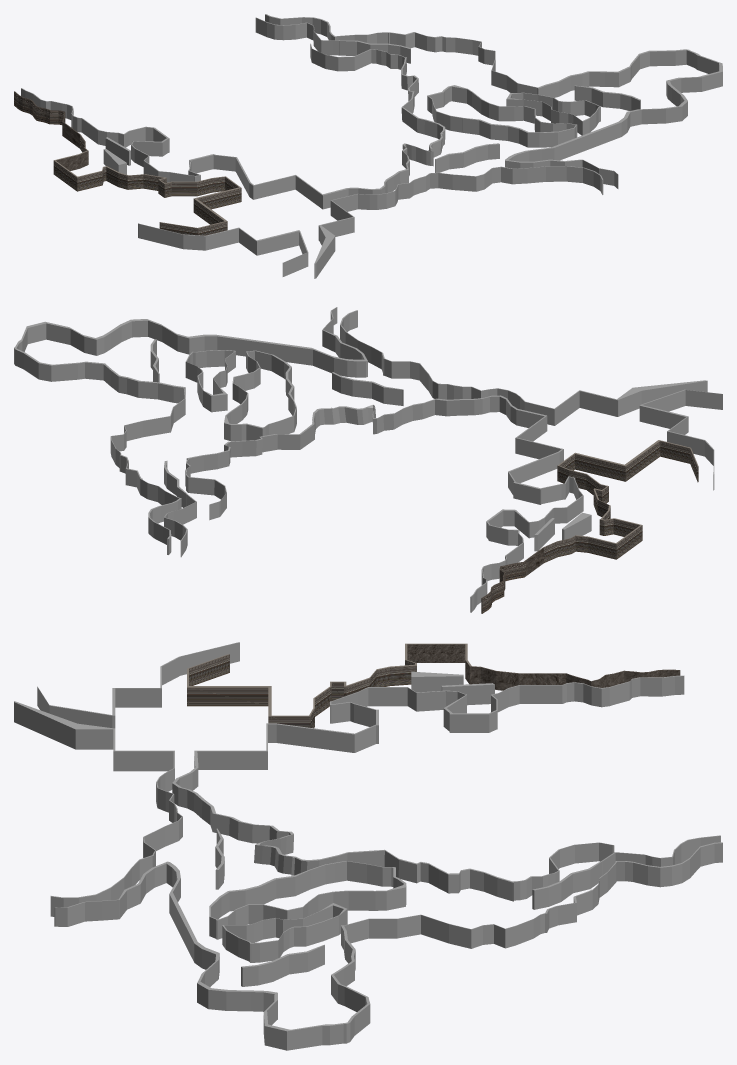
The model's file is Tunnels.fbx.
3 renders of one model, top to bottom at view 1: azimuth 30°, elevation 25°; view 2: azimuth 150°, elevation 25°; view 3: azimuth 270°, elevation 25°, orthographic. The views are drawn at different scales.
Parts seen in each view (by area): view 1: TunnelWalls8, TunnelWalls1, TunnelWalls2, TunnelWalls6, TunnelWalls10, TunnelWalls5, TunnelWalls9, TunnelWalls11, TunnelWalls7, TunnelWalls12; view 2: TunnelWalls8, TunnelWalls1, TunnelWalls2, TunnelWalls6, TunnelWalls10, TunnelWalls5, TunnelWalls11, TunnelWalls9, TunnelWalls7, TunnelWalls3; view 3: TunnelWalls1, TunnelWalls8, TunnelWalls2, TunnelWalls10, TunnelWalls6, TunnelWalls11, TunnelWalls5, TunnelWalls9, TunnelWalls12, TunnelWalls3, TunnelWalls4.
Boxes of the visible parts, bbox=[...] form: TunnelWalls8: bbox=[265, 14, 722, 188]; TunnelWalls1: bbox=[21, 43, 445, 209]; TunnelWalls2: bbox=[14, 91, 241, 235]; TunnelWalls6: bbox=[314, 166, 603, 278]; TunnelWalls10: bbox=[427, 85, 577, 147]; TunnelWalls5: bbox=[138, 223, 308, 276]; TunnelWalls9: bbox=[255, 17, 410, 63]; TunnelWalls11: bbox=[506, 92, 600, 135]; TunnelWalls7: bbox=[435, 143, 499, 172]; TunnelWalls12: bbox=[574, 85, 640, 110]; TunnelWalls8: bbox=[14, 307, 367, 554]; TunnelWalls1: bbox=[185, 395, 583, 612]; TunnelWalls2: bbox=[481, 440, 698, 613]; TunnelWalls6: bbox=[340, 310, 707, 425]; TunnelWalls10: bbox=[224, 350, 296, 441]; TunnelWalls5: bbox=[639, 389, 722, 490]; TunnelWalls11: bbox=[185, 350, 235, 412]; TunnelWalls9: bbox=[164, 461, 196, 557]; TunnelWalls7: bbox=[332, 372, 403, 405]; TunnelWalls3: bbox=[562, 512, 591, 539]; TunnelWalls1: bbox=[172, 675, 684, 901]; TunnelWalls8: bbox=[54, 842, 722, 1050]; TunnelWalls2: bbox=[187, 643, 680, 728]; TunnelWalls10: bbox=[209, 861, 406, 939]; TunnelWalls6: bbox=[14, 701, 182, 916]; TunnelWalls11: bbox=[222, 903, 347, 962]; TunnelWalls5: bbox=[37, 642, 239, 728]; TunnelWalls9: bbox=[532, 835, 720, 909]; TunnelWalls12: bbox=[241, 944, 324, 986]; TunnelWalls3: bbox=[411, 671, 463, 692]; TunnelWalls4: bbox=[441, 683, 494, 705].
Size of the model in its own units: 709 by 22.61 by 546.
